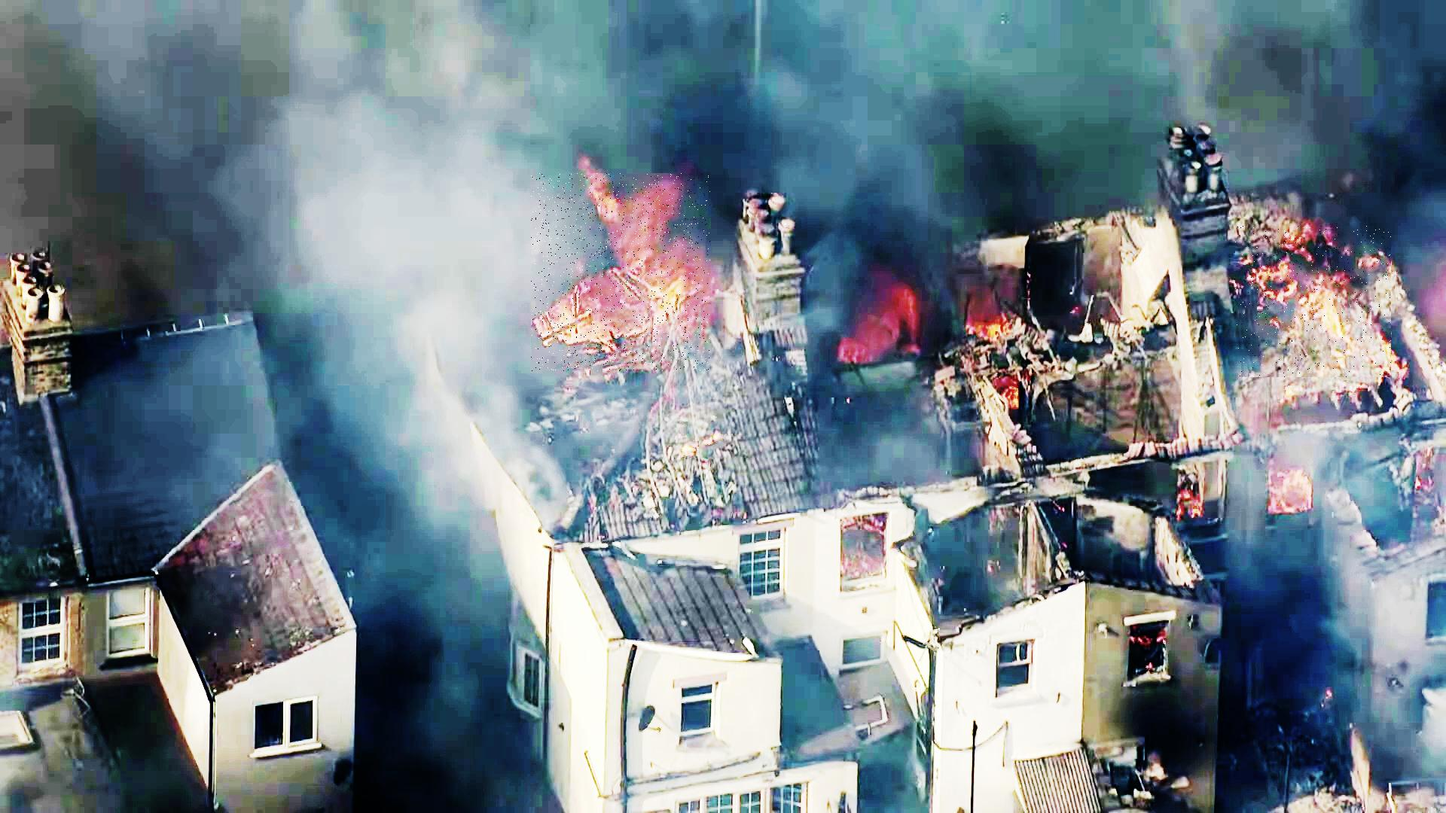fire: (531, 173, 710, 371), (1235, 226, 1391, 377)
